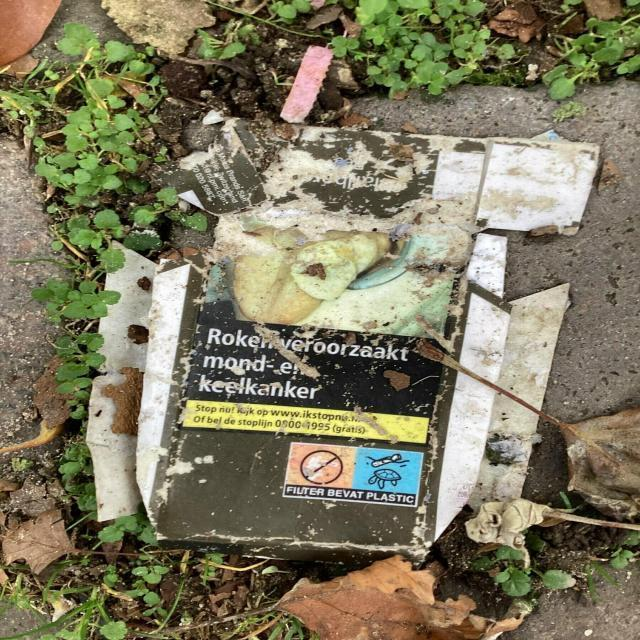Paper: (76, 109, 606, 566)
